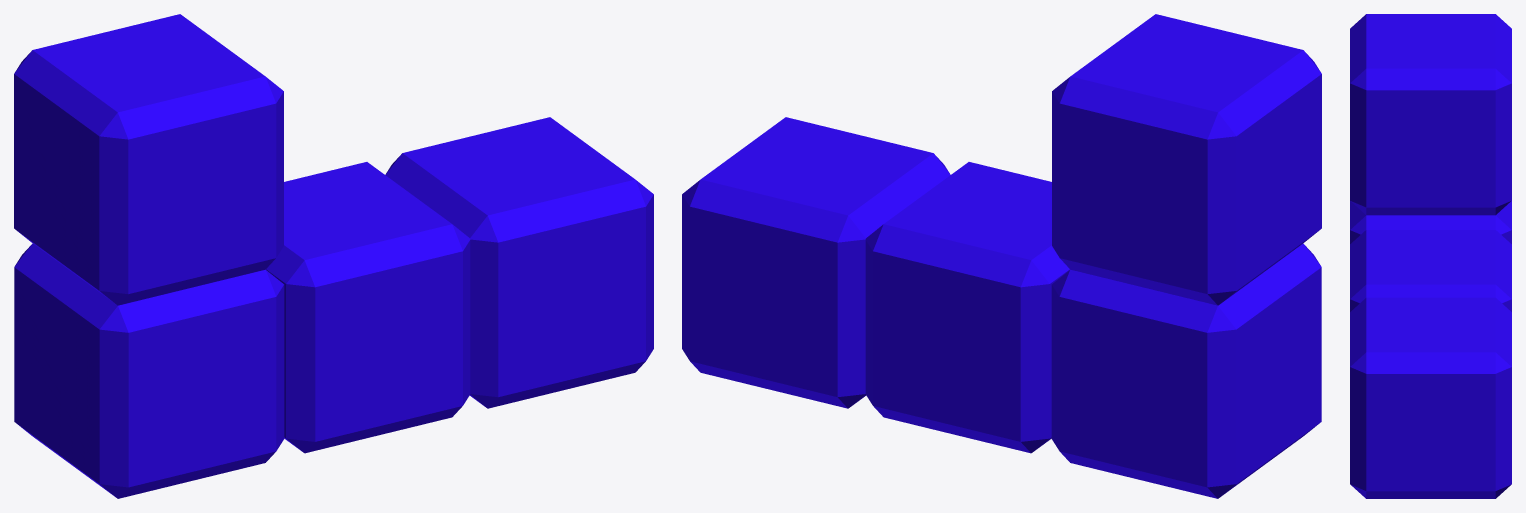
Rendered from Tetris_L.fbx.
3 renders of one model, left to right at view 1: azimuth 30°, elevation 25°; view 2: azimuth 150°, elevation 25°; view 3: azimuth 270°, elevation 25°, orthographic. The views are drawn at different scales.
Visible parts, largest first — view 1: Box100; view 2: Box100; view 3: Box100.
Part boxes in pixels (left/top/right/bottom): Box100: left=14, top=14, right=653, bottom=498; Box100: left=682, top=14, right=1321, bottom=498; Box100: left=1350, top=14, right=1511, bottom=498.
Bounding box in the file's own units: 300 × 200 × 100.
